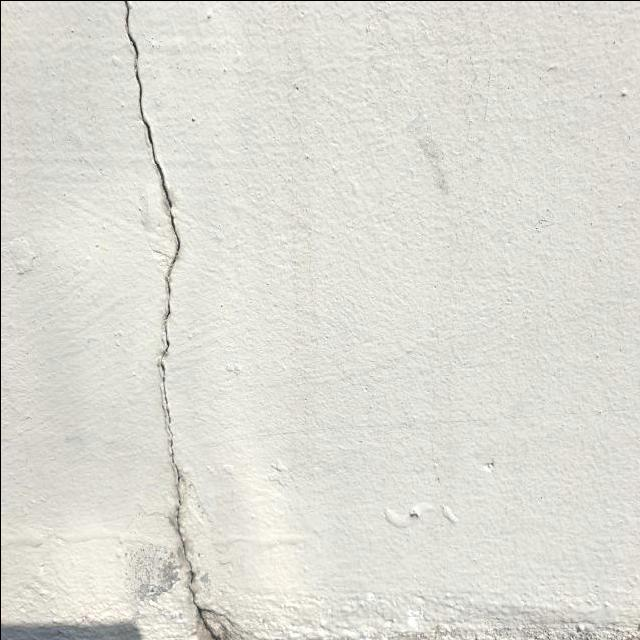SurfaceCrack: (90, 0, 250, 640)
